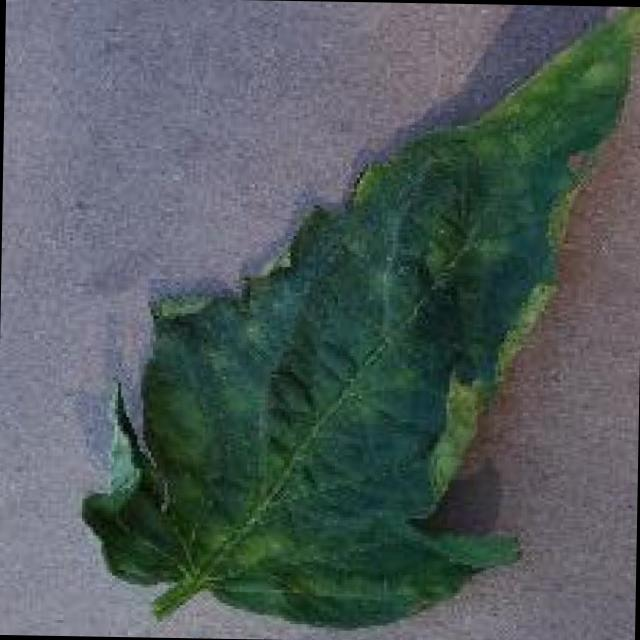leaf mold: (72, 5, 640, 632)
